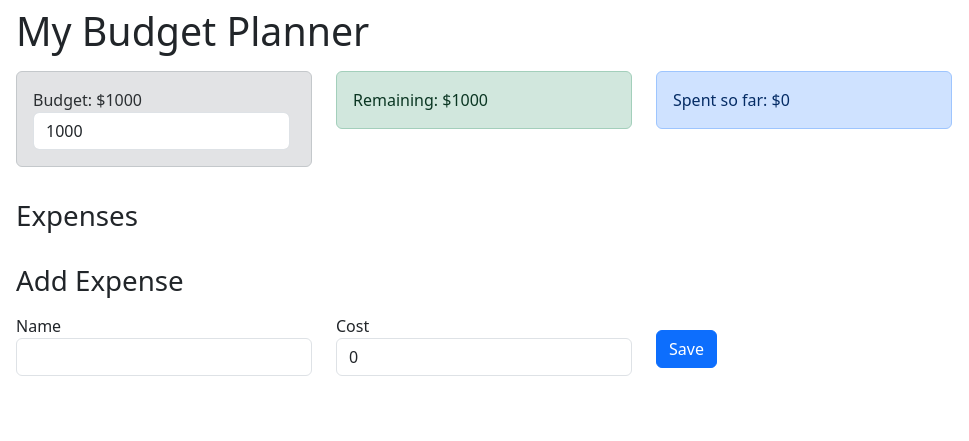
it: My Budget Tracker › expense creation negative
Check: the text "Remaining: $1000" is shown, box [353,89,488,111]
Check: the text "Budget: $1000" is shown, box [33,88,142,112]
Type "Luxury Car" into the field with test id "name-input" at (164, 357), box [16,338,312,376]
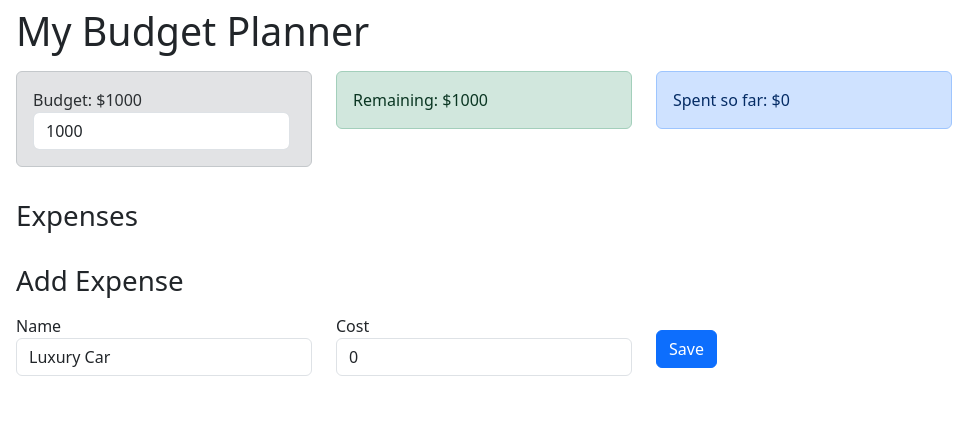
Replace the text in the field with test id "cost-input" with "100000" at (484, 357), box [336,338,632,376]
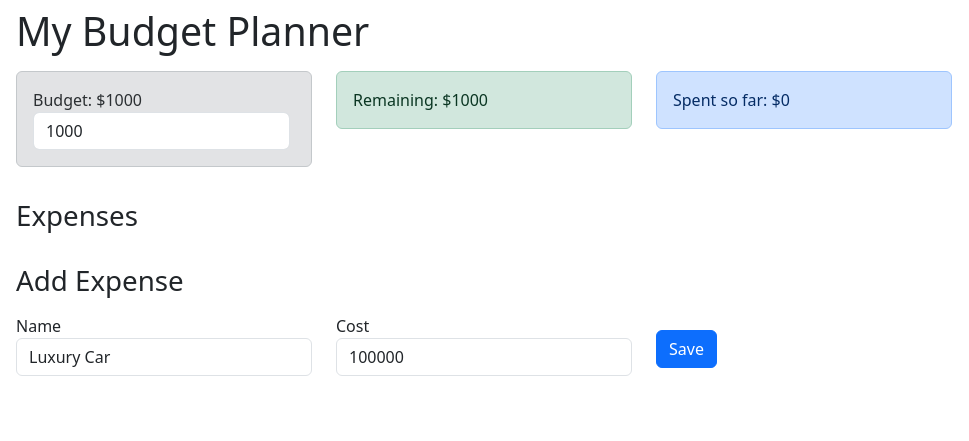
Click the button with test id "save-button" at (686, 349), box [656,330,717,368]
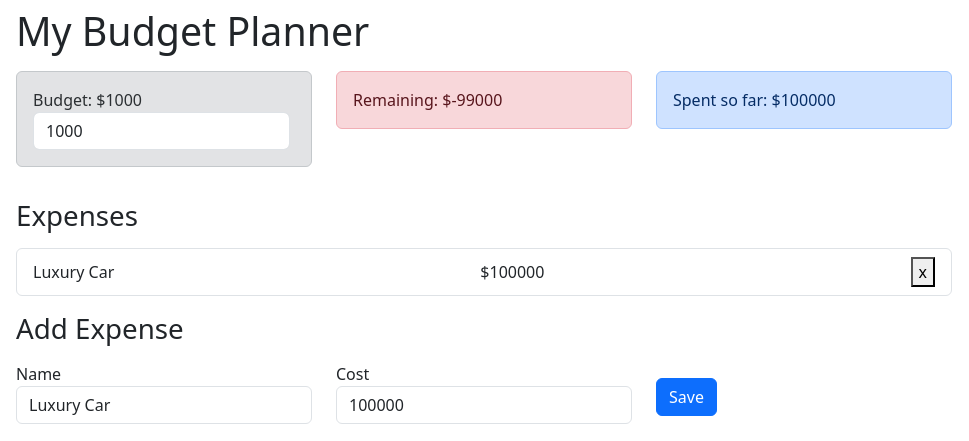
Check: the text "Luxury Car" is shown, box [33,260,114,284]
Check: the text "$100000" is shown, box [480,260,544,284]
Check: the text "Remaining: $-99000" is shown, box [353,89,502,111]
